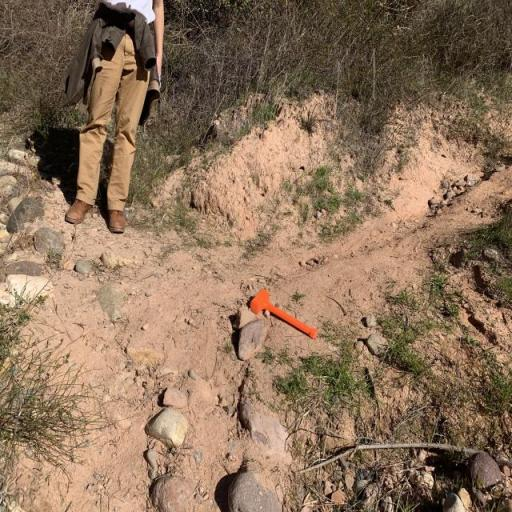mallet: (249, 288, 318, 340)
